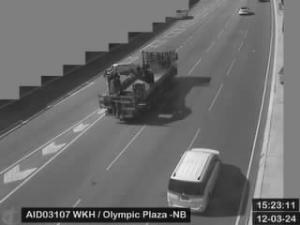truck: (98, 42, 180, 123)
vehicle: (166, 147, 222, 213), (238, 7, 250, 15)
